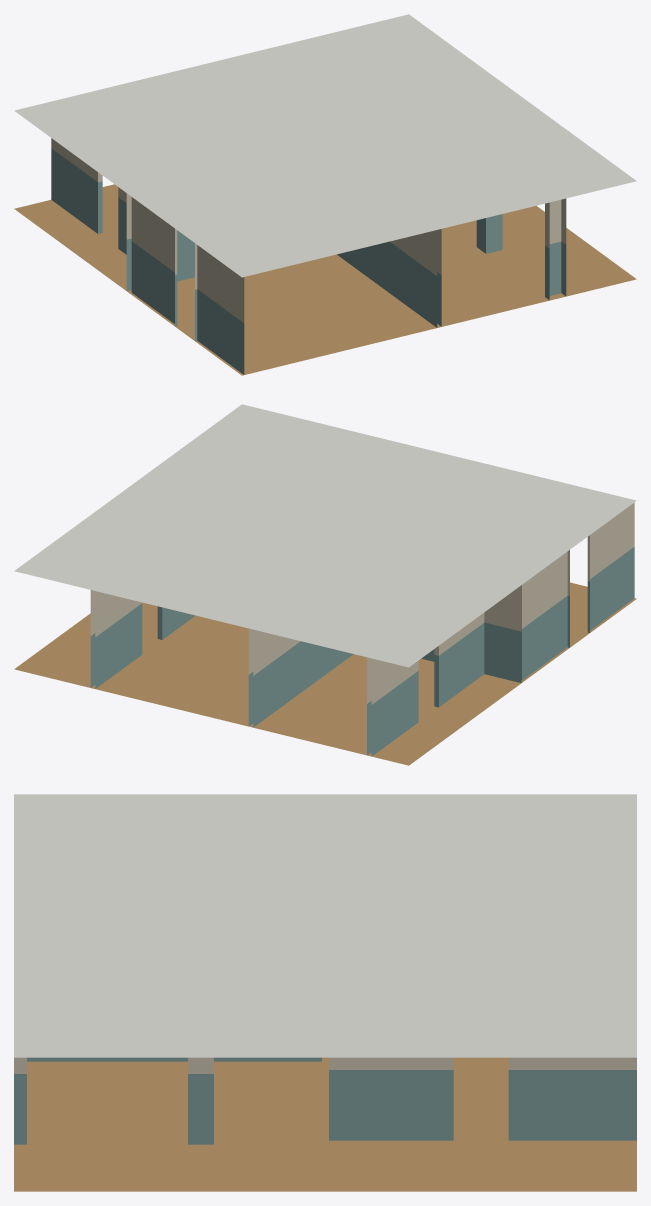
Rendered from chunk_1_1.glb.
3 renders of one model, top to bottom at view 1: azimuth 30°, elevation 25°; view 2: azimuth 150°, elevation 25°; view 3: azimuth 270°, elevation 25°, orthographic. The views are drawn at different scales.
Parts seen in each view (by area): view 1: chunk_1_1; view 2: chunk_1_1; view 3: chunk_1_1.
Boxes of the visible parts, x1,y1,x2,y2 form: chunk_1_1: (14,14,636,375); chunk_1_1: (14,404,636,765); chunk_1_1: (14,794,636,1191).
Bounding box in the file's own units: 12 × 2.85 × 12.
